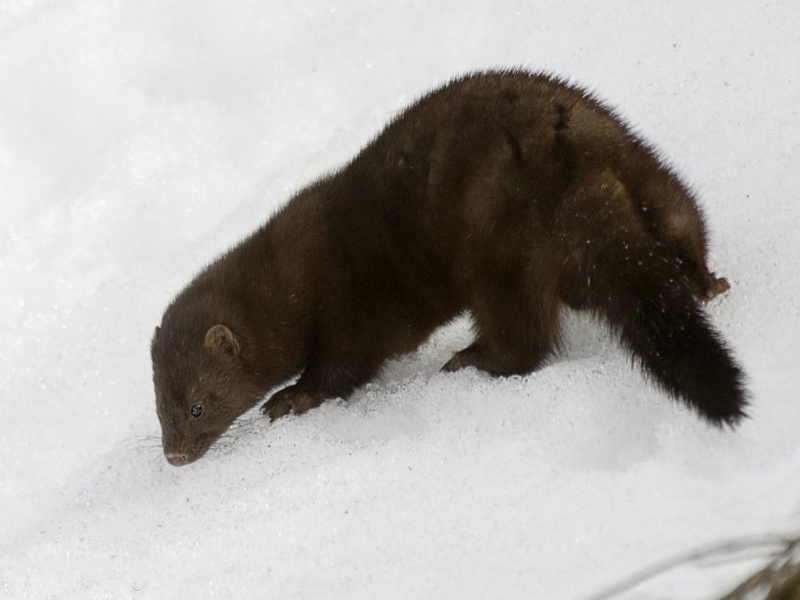minkish: (148, 64, 756, 474)
